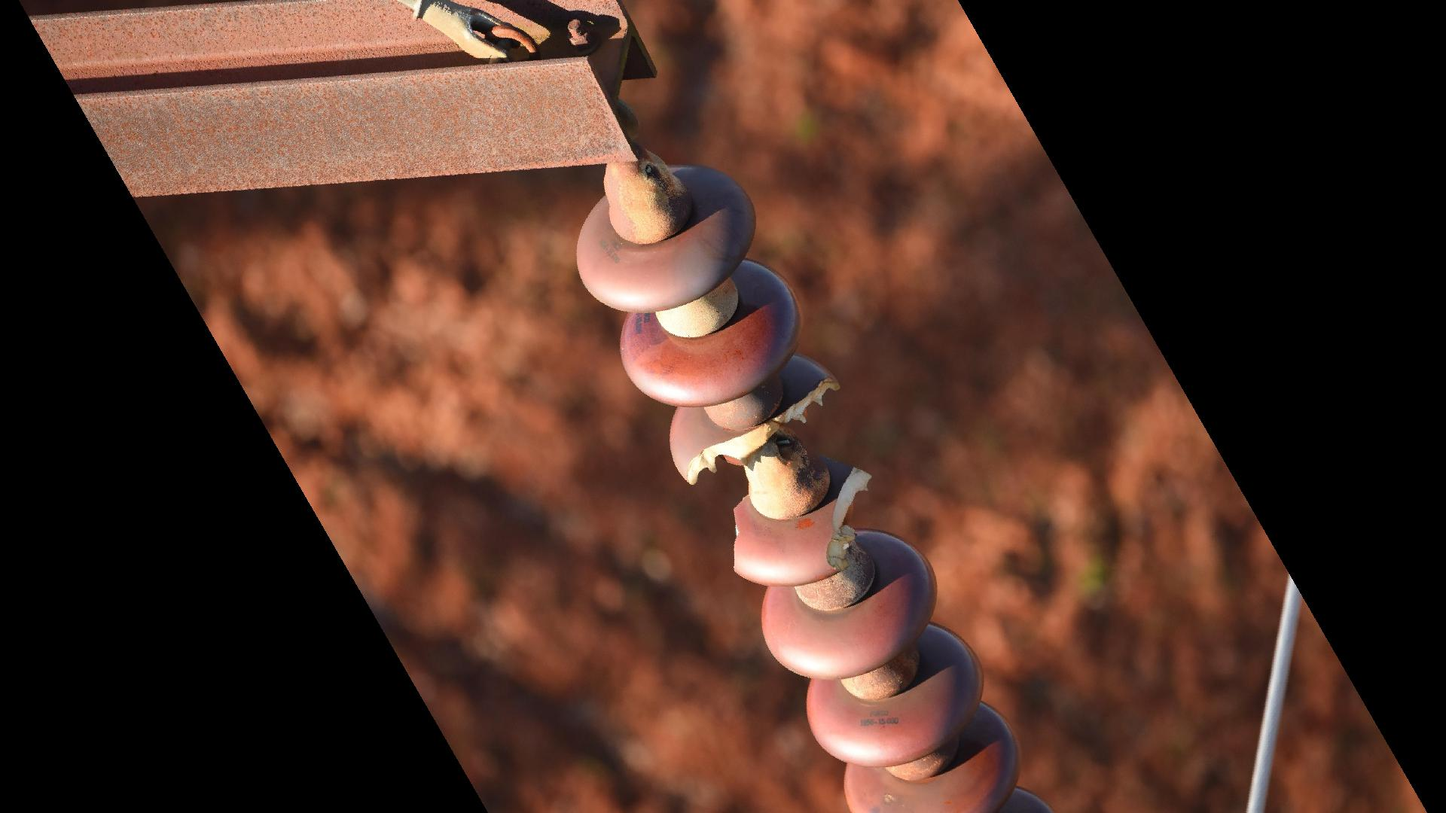insulator: (572, 161, 1049, 813)
insulator_breakage: (677, 364, 844, 491), (816, 457, 882, 583), (718, 485, 764, 583)
